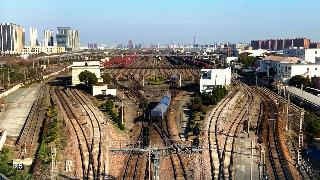train: (151, 93, 171, 122)
